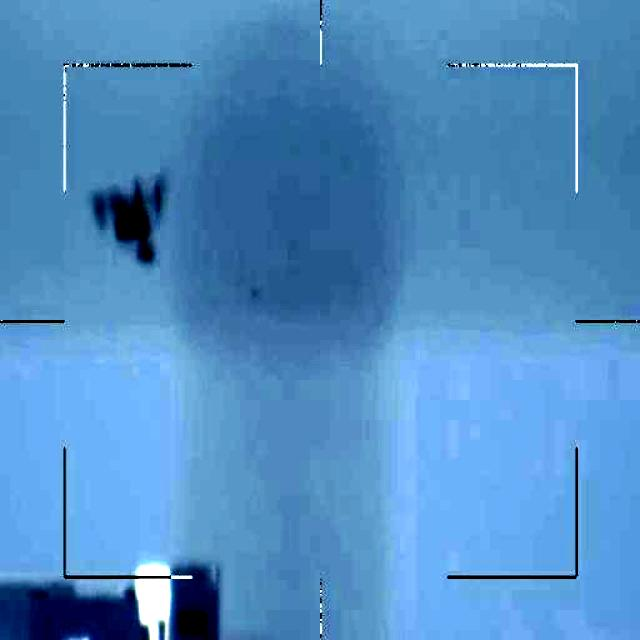bird: (84, 178, 174, 269)
